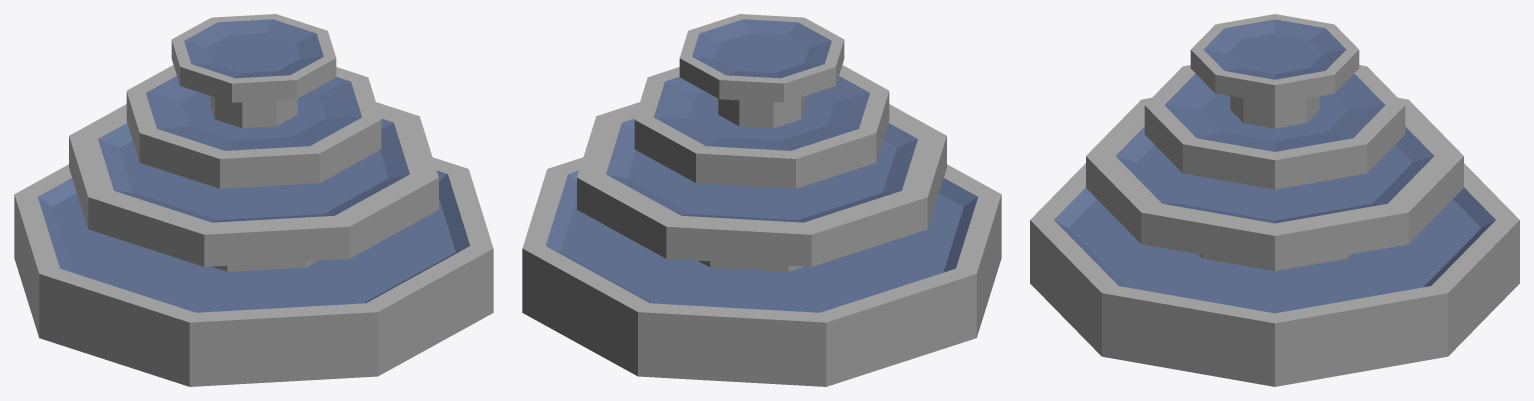
File: fountain1.fbx
3 views of the same model, side by side, from view 1: azimuth 30°, elevation 25°; view 2: azimuth 150°, elevation 25°; view 3: azimuth 270°, elevation 25° (orthographic).
Parts seen in each view (by area): view 1: Fountain1; view 2: Fountain1; view 3: Fountain1.
Boxes of the visible parts, left/top/right/bottom form: Fountain1: left=14, top=14, right=493, bottom=386; Fountain1: left=522, top=14, right=1001, bottom=386; Fountain1: left=1030, top=14, right=1519, bottom=386.
Size of the model in its own units: 224 by 118 by 224.
